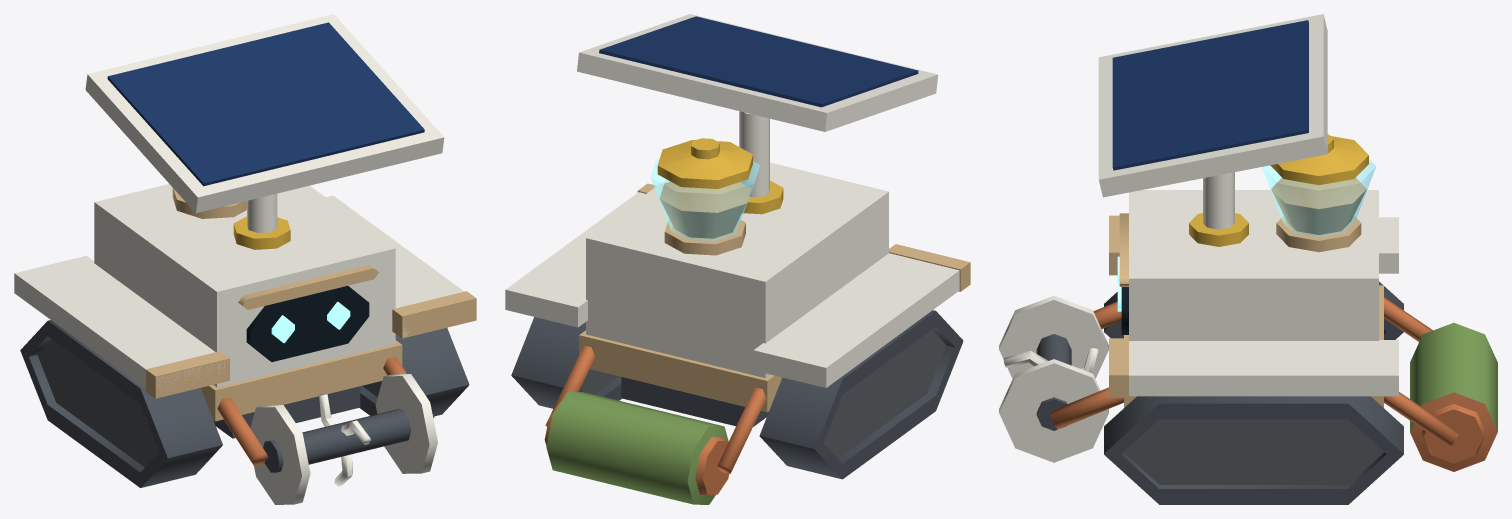
The model's file is cultivator.lod1.glb.
The picture shows the model from 3 angles, left to right: view 1: azimuth 30°, elevation 25°; view 2: azimuth 150°, elevation 25°; view 3: azimuth 270°, elevation 25°; orthographic projection.
Visible parts, largest first — view 1: cultivator_lod1; view 2: cultivator_lod1; view 3: cultivator_lod1.
Part boxes in pixels (left/top/right/bottom): cultivator_lod1: left=14, top=14, right=476, bottom=504; cultivator_lod1: left=505, top=14, right=970, bottom=504; cultivator_lod1: left=999, top=14, right=1497, bottom=504.
Size of the model in its own units: 0.755 by 0.7998 by 0.998.
